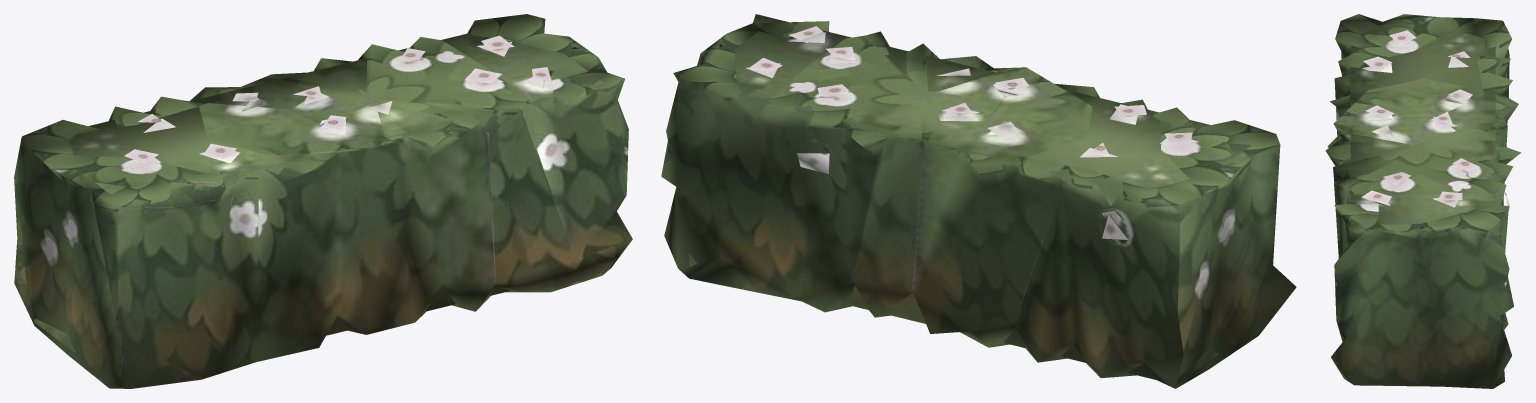
Rendered from mu-haie-semis.glb.
The picture shows the model from 3 angles, left to right: view 1: azimuth 30°, elevation 25°; view 2: azimuth 150°, elevation 25°; view 3: azimuth 270°, elevation 25°; orthographic projection. The views are drawn at different scales.
Visible parts, largest first — view 1: mu-haie-semis; view 2: mu-haie-semis; view 3: mu-haie-semis.
Boxes of the visible parts, x1,y1,x2,y2 form: mu-haie-semis: [14, 14, 632, 388]; mu-haie-semis: [661, 14, 1296, 388]; mu-haie-semis: [1325, 14, 1520, 388].
Bounding box in the file's own units: 1.96 × 0.7243 × 0.7479.
Materials: 1 (1 with a texture image).
